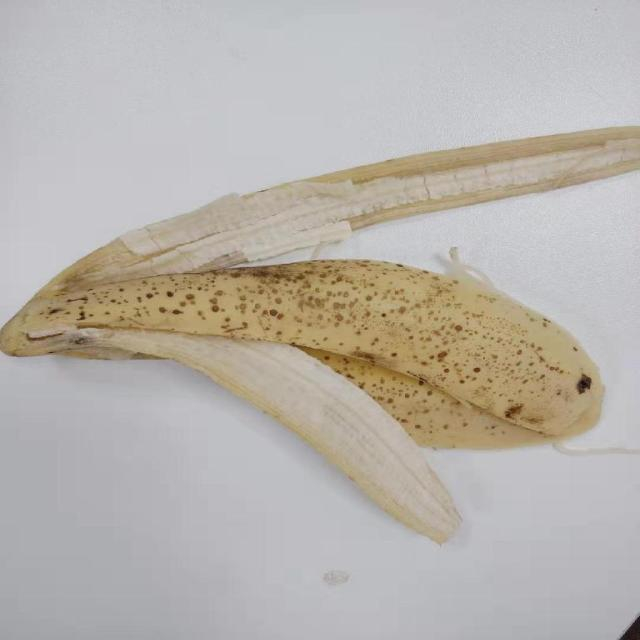Wet Waste: (0, 124, 639, 546)
